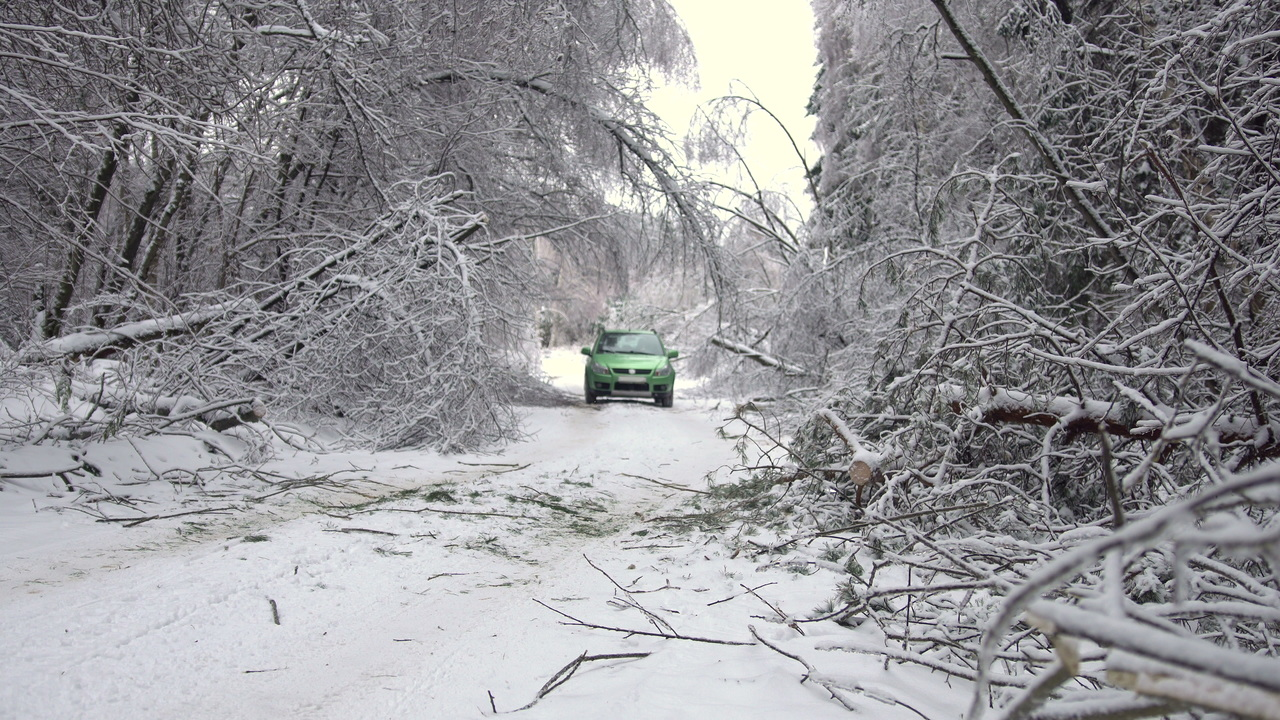car: (580, 326, 678, 406)
